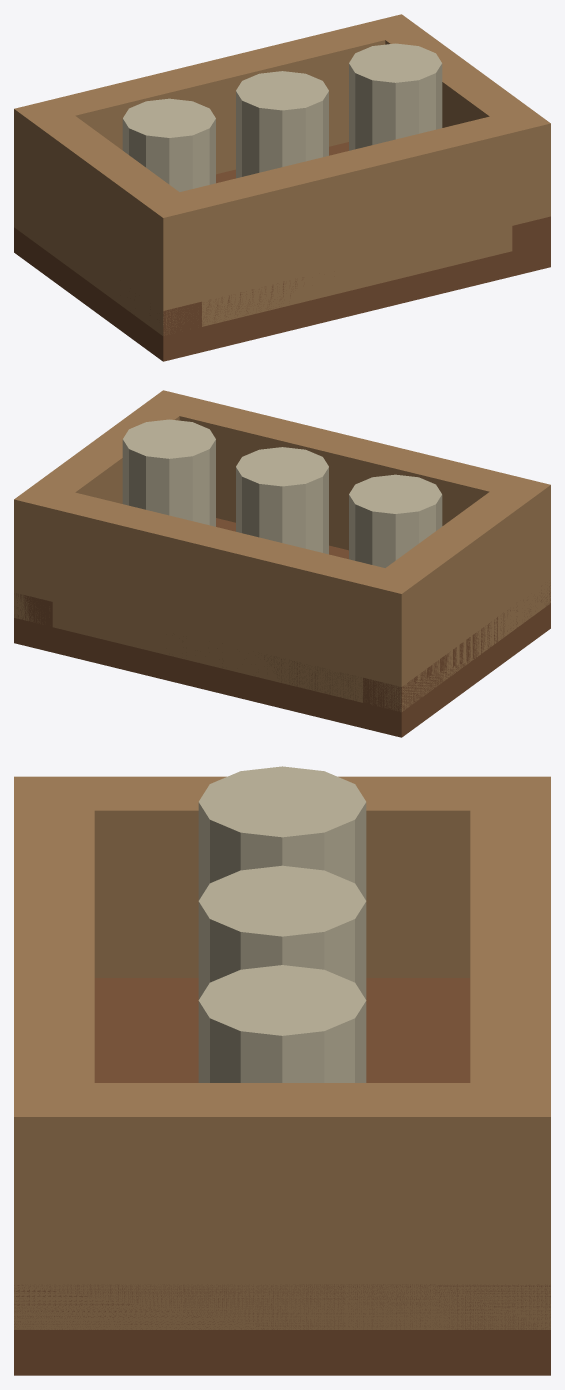
Rendered from set_gauze_tin.glb.
3 renders of one model, top to bottom at view 1: azimuth 30°, elevation 25°; view 2: azimuth 150°, elevation 25°; view 3: azimuth 270°, elevation 25°, orthographic. The views are drawn at different scales.
Visible parts, largest first — view 1: set_gauze_tin; view 2: set_gauze_tin; view 3: set_gauze_tin.
Boxes of the visible parts, <box> form: set_gauze_tin: <box>14,14,550,361</box>; set_gauze_tin: <box>14,390,550,737</box>; set_gauze_tin: <box>14,766,550,1375</box>.
Bounding box in the file's own units: 0.24 × 0.1 × 0.16.
